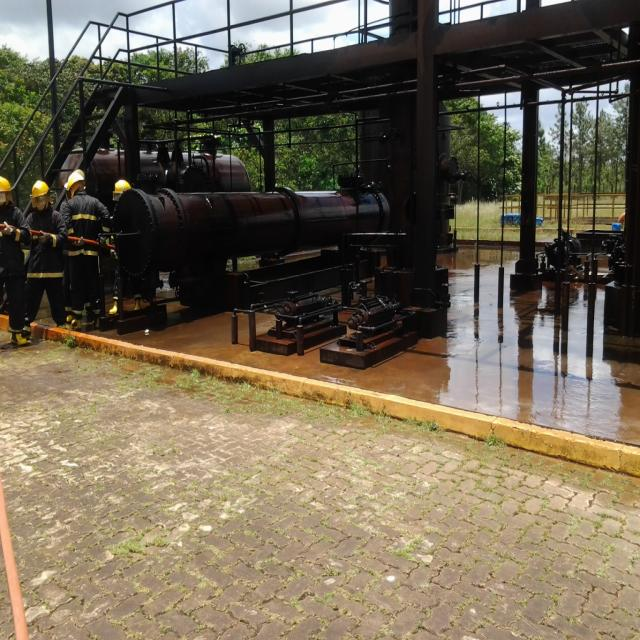no_fire: (4, 22, 640, 561)
